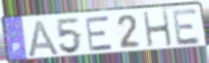2: (116, 14, 143, 51)
5: (54, 16, 84, 55)
A: (25, 19, 61, 58)
E: (170, 7, 202, 47), (84, 15, 115, 53)
H: (142, 9, 174, 49)
